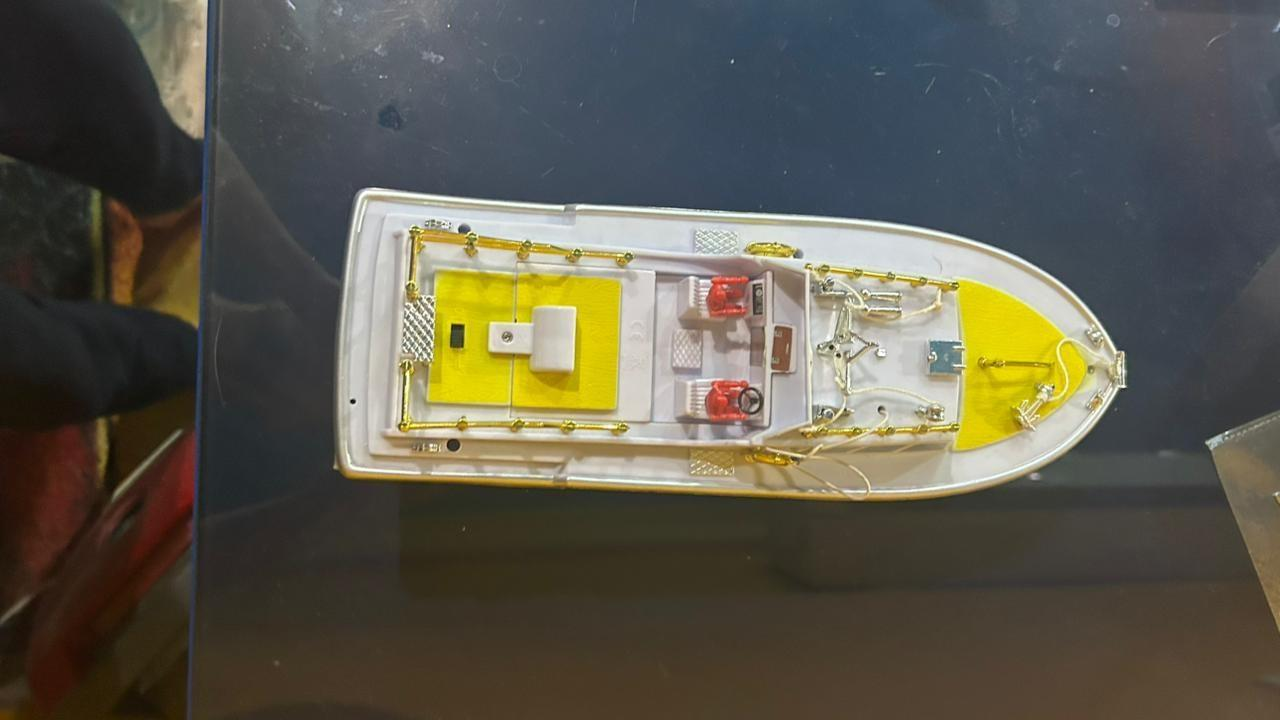Boat: (322, 165, 1135, 528)
